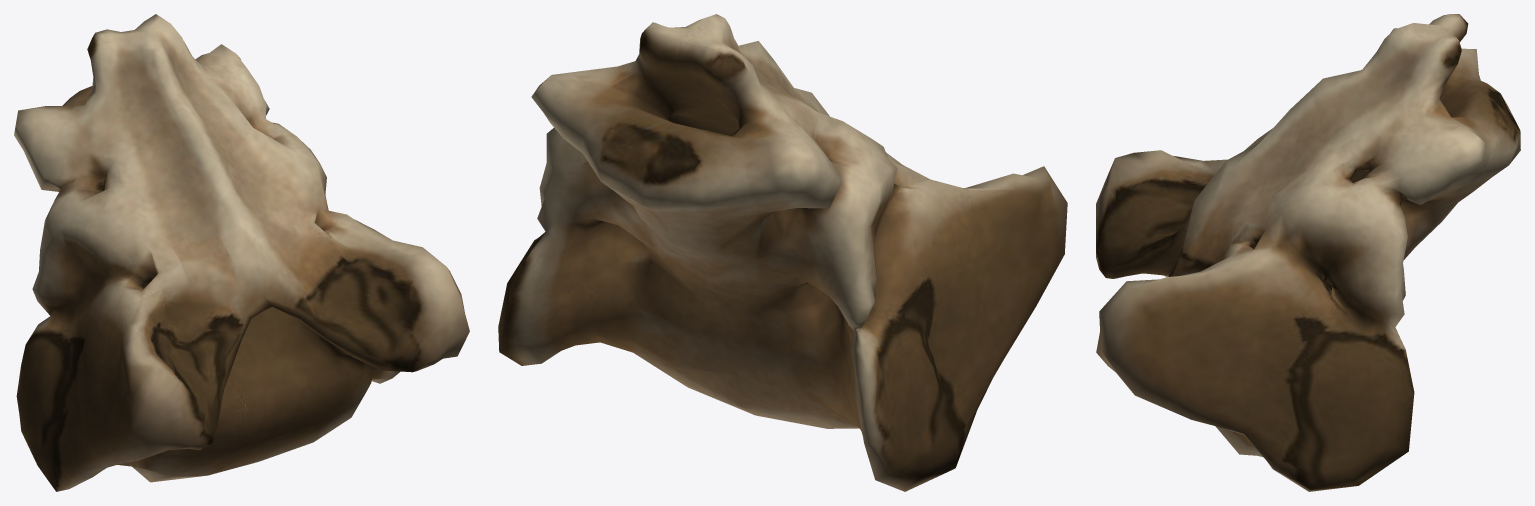
Rendered from Sacrum.glb.
The picture shows the model from 3 angles, left to right: view 1: azimuth 30°, elevation 25°; view 2: azimuth 150°, elevation 25°; view 3: azimuth 270°, elevation 25°; orthographic projection. The views are drawn at different scales.
Parts seen in each view (by area): view 1: Sacrum1:Group53001; view 2: Sacrum1:Group53001; view 3: Sacrum1:Group53001.
Boxes of the visible parts, bbox=[...] form: Sacrum1:Group53001: bbox=[14, 14, 469, 491]; Sacrum1:Group53001: bbox=[498, 14, 1067, 491]; Sacrum1:Group53001: bbox=[1096, 14, 1520, 491].
Bounding box in the file's own units: 34.26 × 35.94 × 34.19.
1 material, 1 textured.
